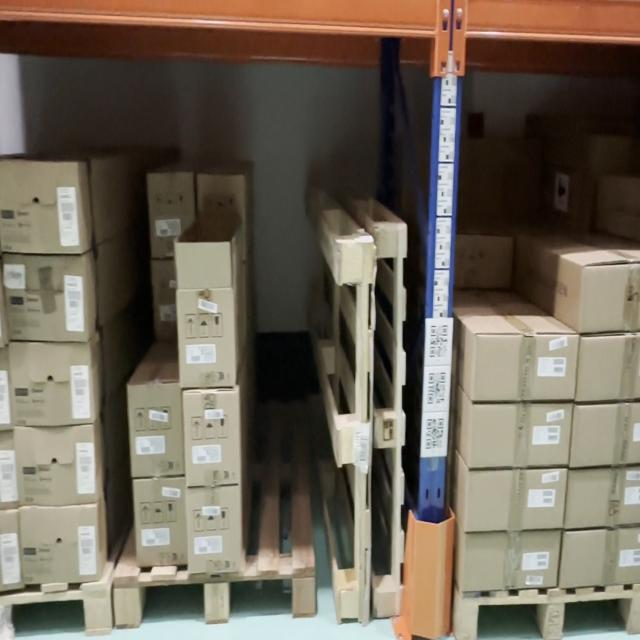box: (178, 244, 232, 386), (10, 342, 92, 427), (469, 404, 573, 471), (15, 424, 97, 508), (4, 255, 85, 340), (475, 335, 578, 400), (20, 505, 95, 581), (468, 473, 566, 530), (184, 392, 240, 488), (465, 535, 561, 589), (129, 381, 182, 476), (187, 490, 241, 576), (133, 479, 185, 565)
